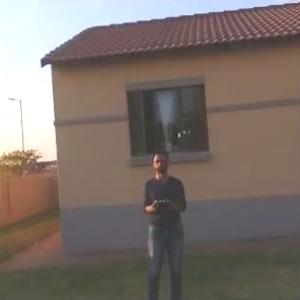follow: (139, 144, 191, 299)
